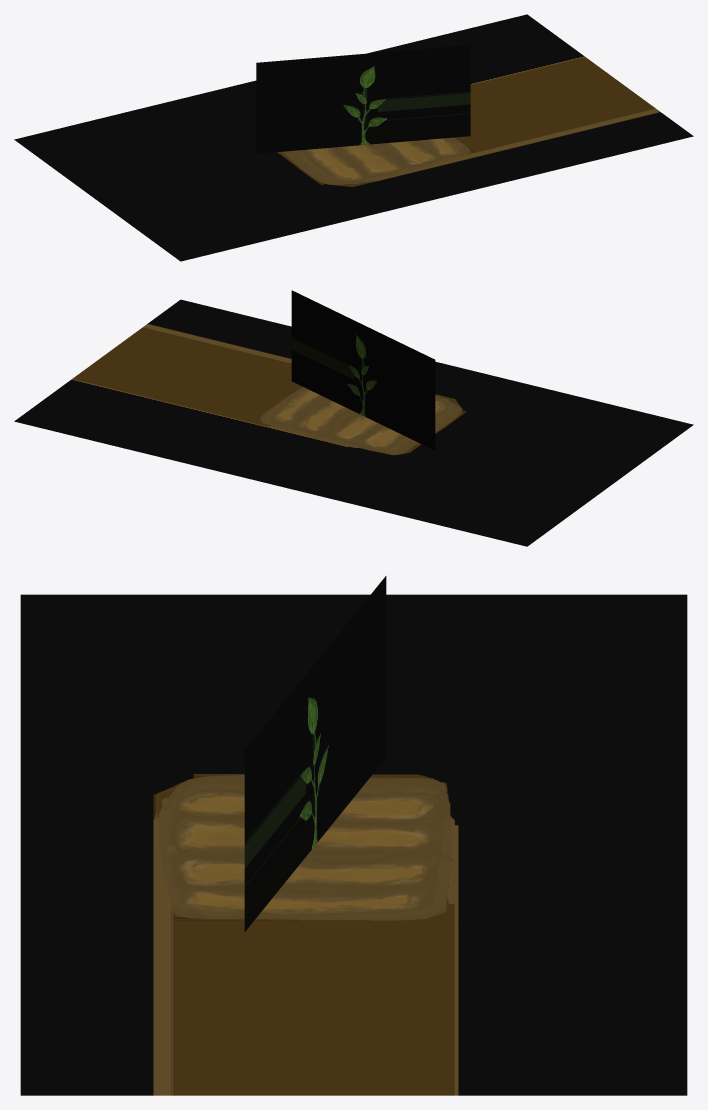
The model's file is ivana ovo ti je suha yemlja sa pola biljke 1.fbx.
3 views of the same model, one above another, from view 1: azimuth 30°, elevation 25°; view 2: azimuth 150°, elevation 25°; view 3: azimuth 270°, elevation 25° (orthographic). The views are drawn at different scales.
Parts seen in each view (by area): view 1: ovo je suha yemlja ivana, srednji_rast_biljke; view 2: ovo je suha yemlja ivana, srednji_rast_biljke; view 3: ovo je suha yemlja ivana, srednji_rast_biljke.
Part boxes in pixels (bbox=[...]): ovo je suha yemlja ivana: bbox=[14, 14, 693, 261]; srednji_rast_biljke: bbox=[256, 45, 470, 153]; ovo je suha yemlja ivana: bbox=[14, 299, 693, 546]; srednji_rast_biljke: bbox=[291, 290, 435, 450]; ovo je suha yemlja ivana: bbox=[20, 594, 687, 1095]; srednji_rast_biljke: bbox=[244, 576, 386, 931].
Size of the model in its own units: 178 by 36.85 by 100.
2 materials, 2 textured.
